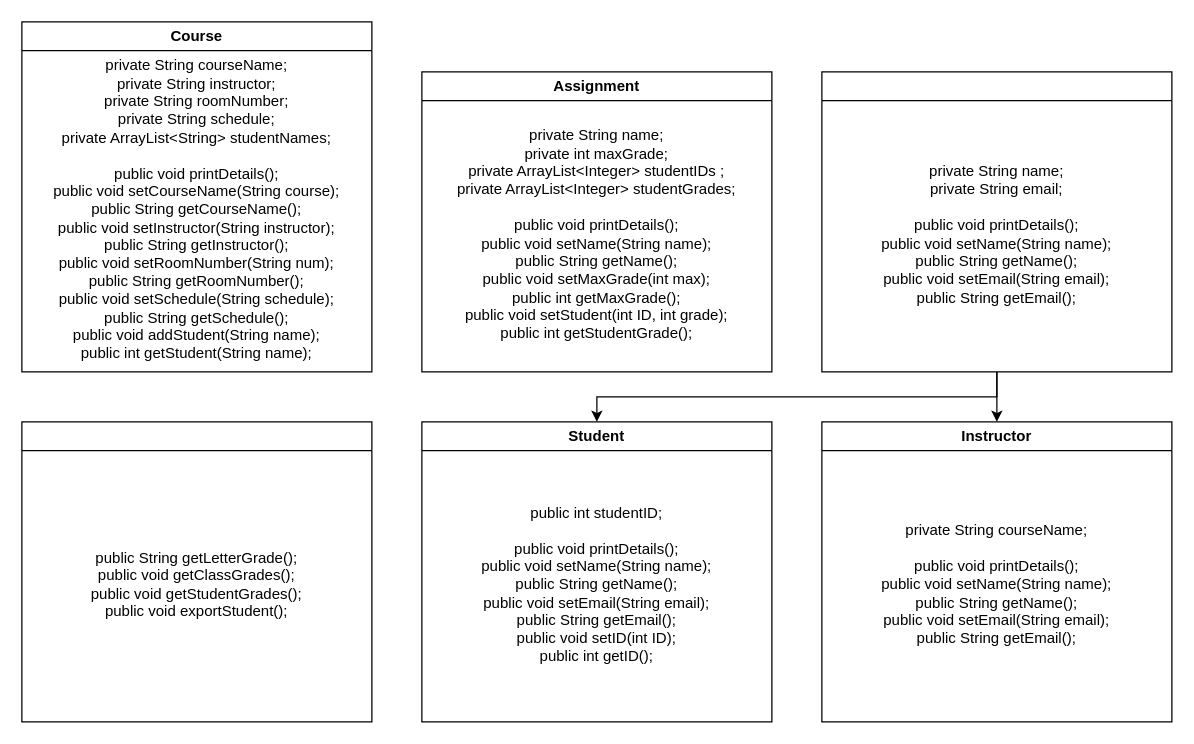
Some shapes in this 1194 by 744 pixel diagram are drawn without their labels. The box of each missing label's shape, as (x1, y1, x2, y2) in pixels:
Grade (Static?): (21, 421, 372, 722)
Person (abstract): (821, 71, 1172, 372)
